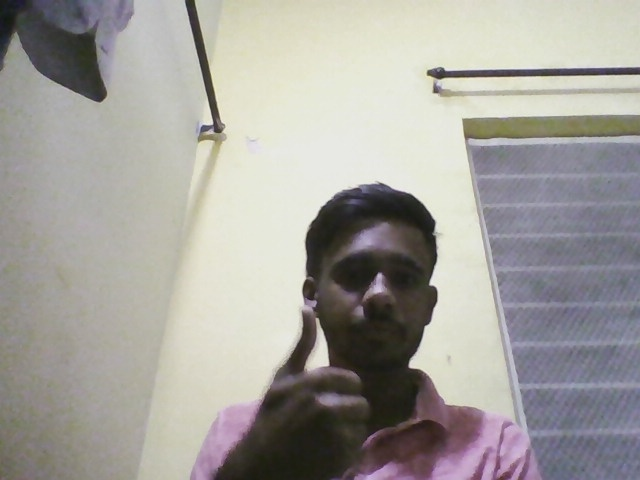yes: (257, 302, 380, 480)
